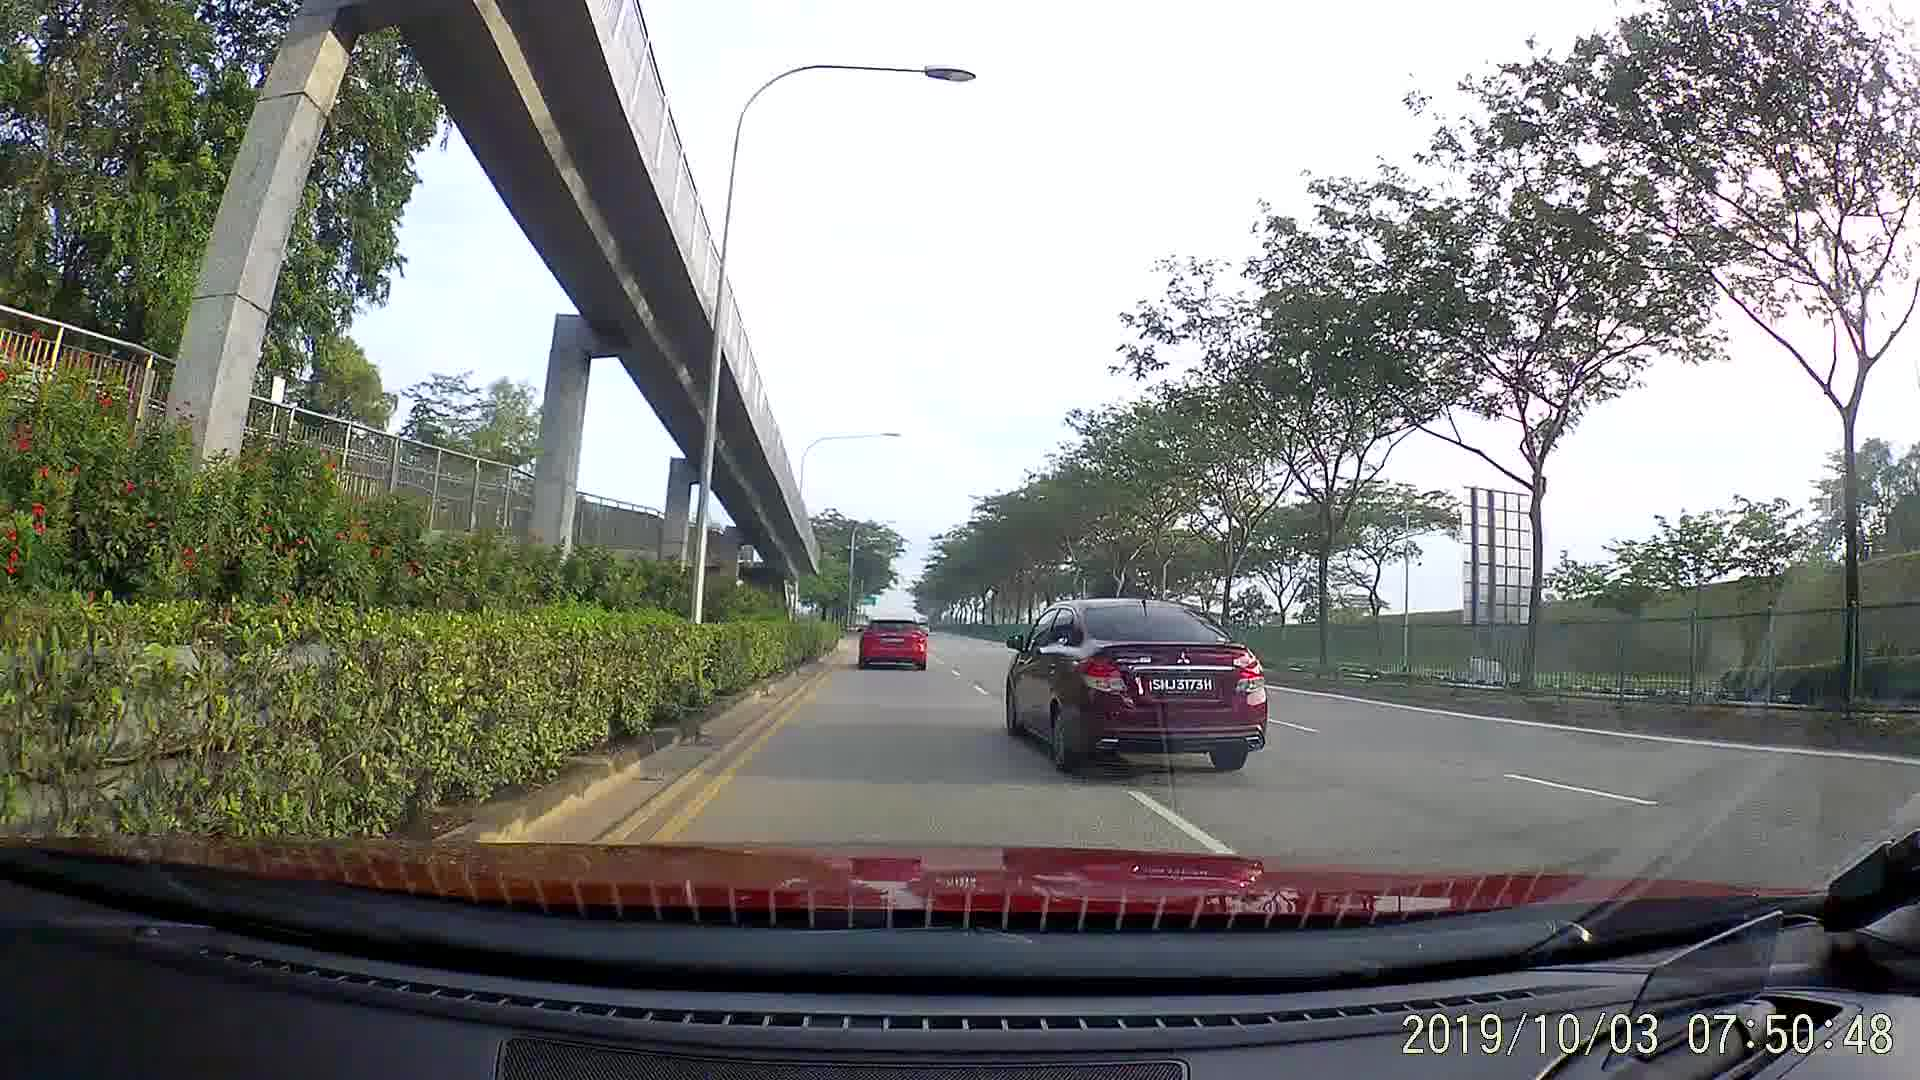car: (1002, 596, 1271, 779), (851, 611, 930, 673)
